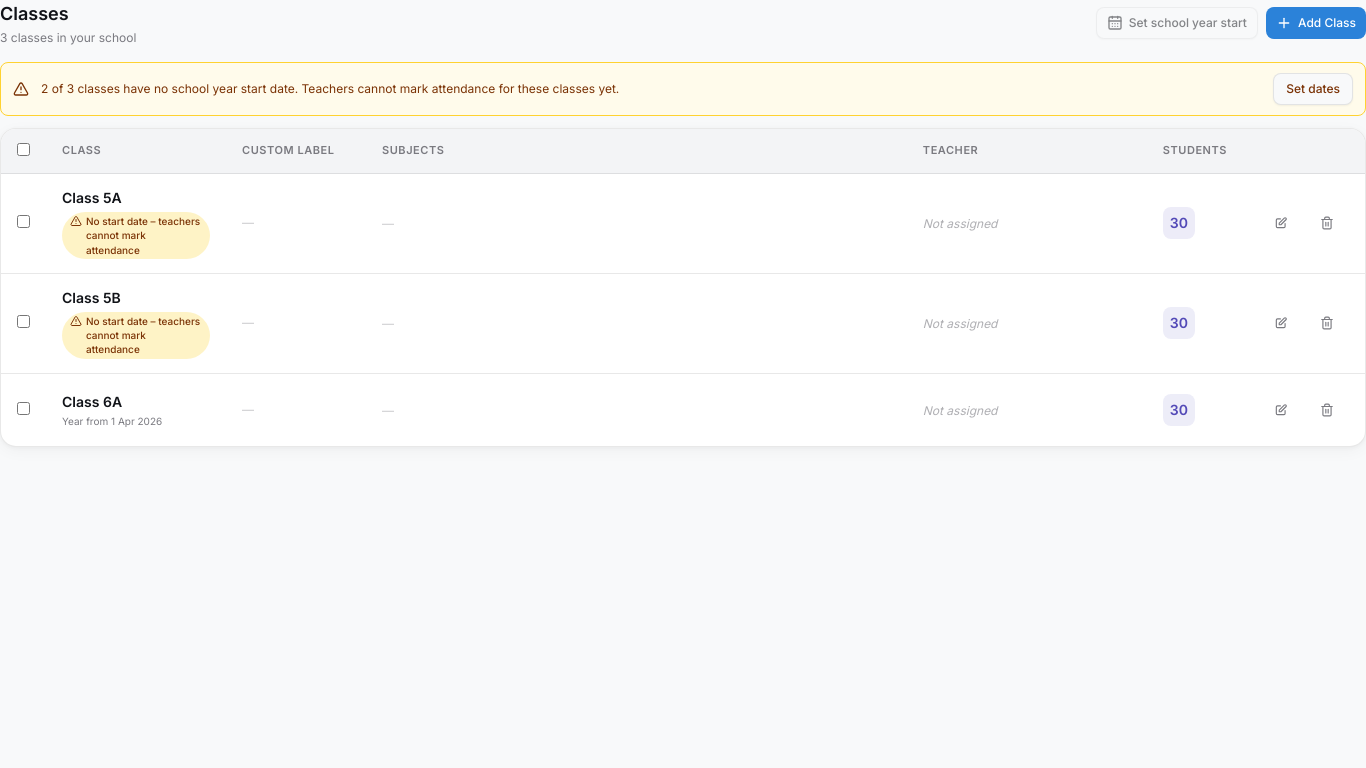
Test: AdminClassesPanel: classes without a school year start date › C3: singular and plural wording › the bulk dialog split line when one class changes and one keeps its date (current wording pinned)
Click the checkbox named "Select Class 5A" at (24, 222), box [17,215,30,228]
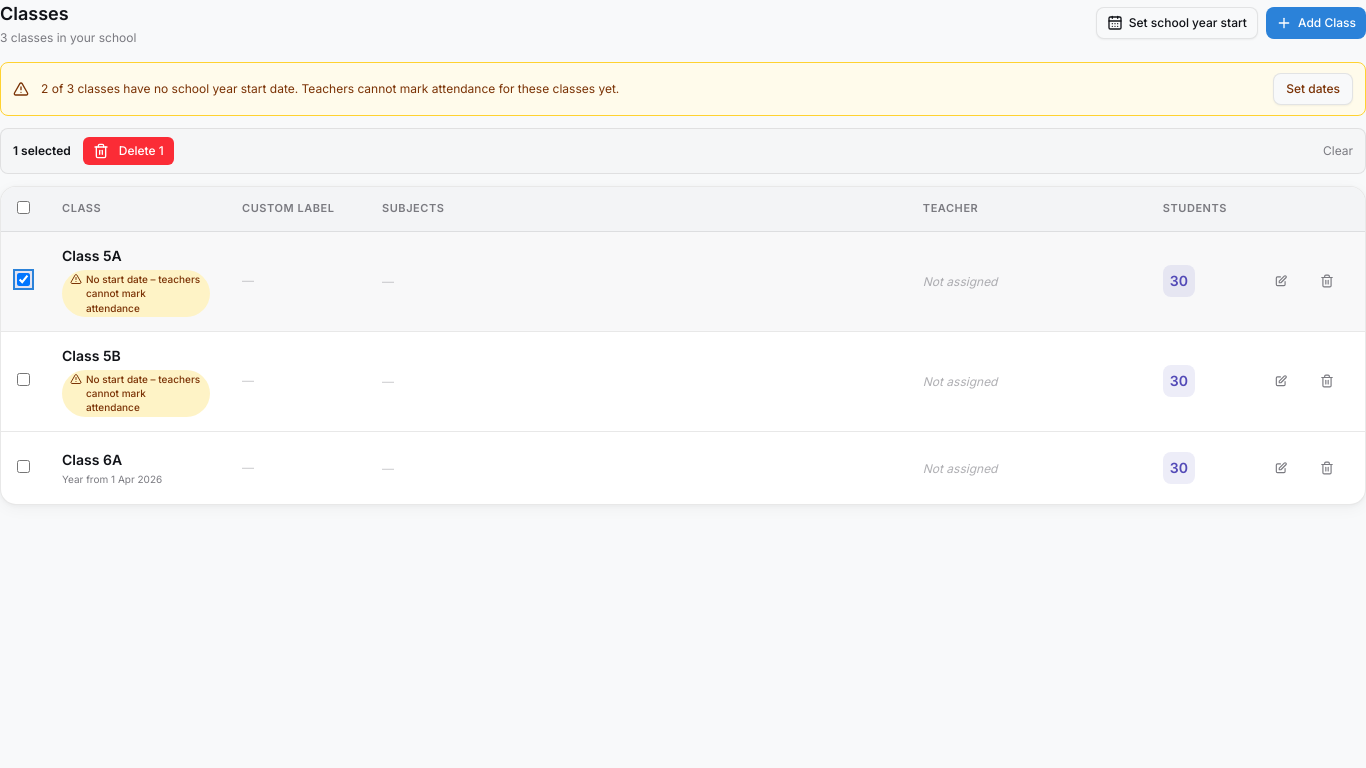
Click the checkbox named "Select Class 6A" at (24, 466), box [17,460,30,473]
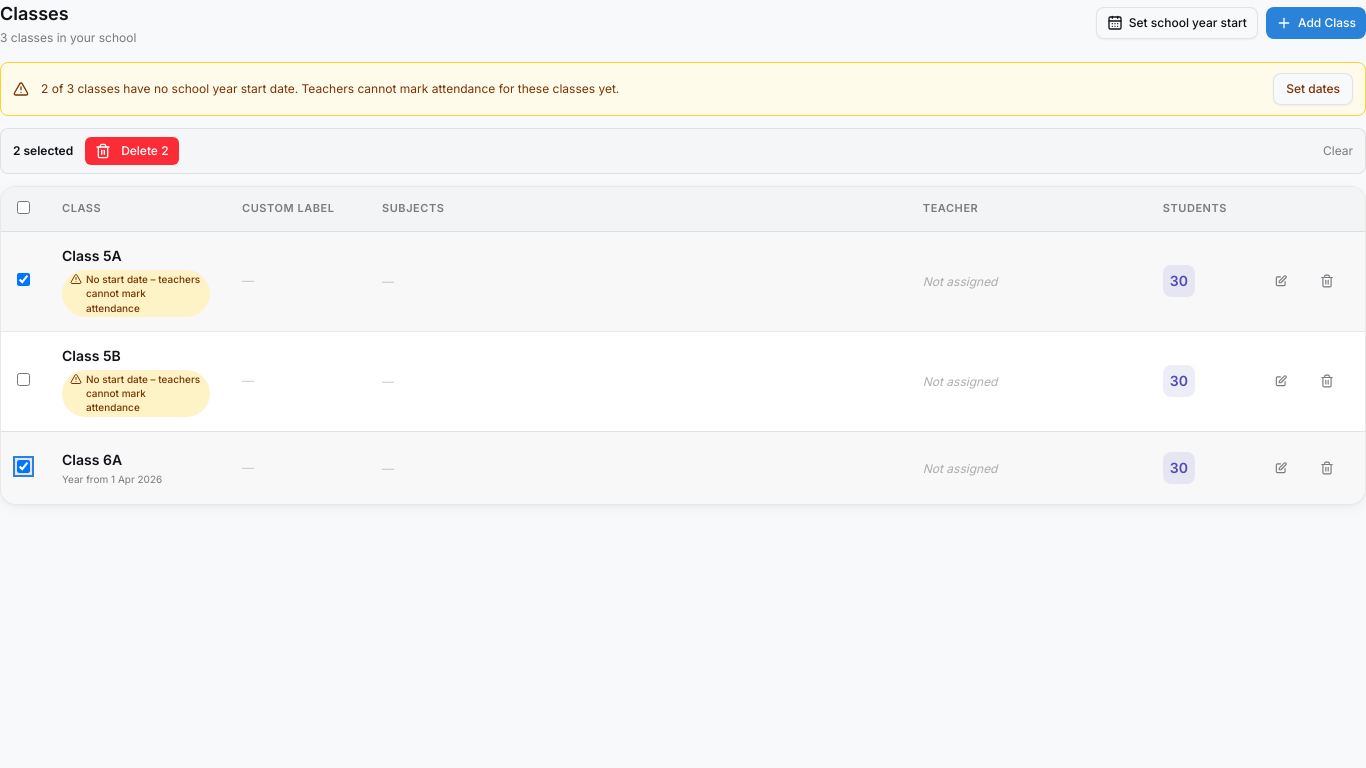
Click the button "Set school year start" at (1177, 23), box [1096,7,1258,39]
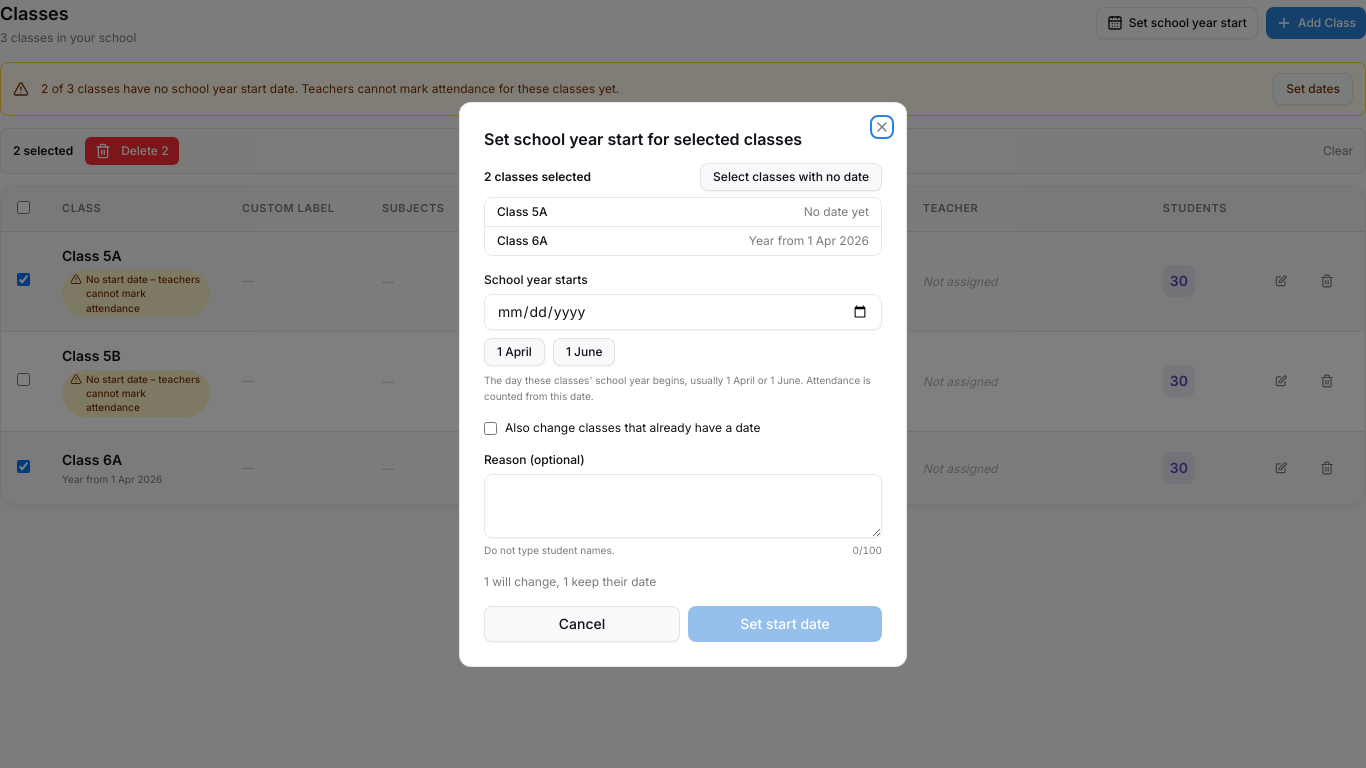
Type "2026-06-01" into the date field labelled "School year starts" at (683, 312), box [484,294,882,330]
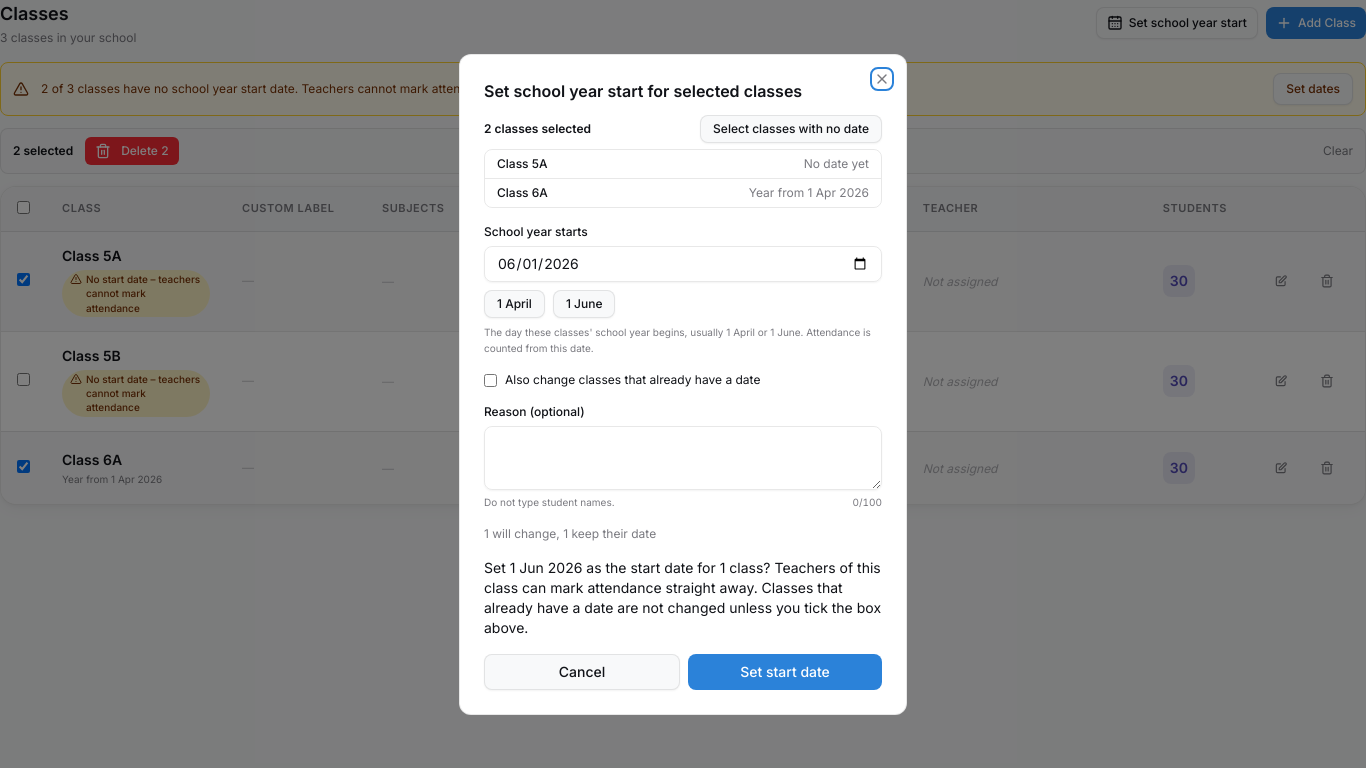
Now the text "1 will change, 1 keep their date" is shown, box [484,526,656,540]
Now the text "Set 1 Jun 2026 as the start date for 1 class? Teachers of this class can mark attendance straight away. Classes that alr" is shown, box [484,558,881,636]
